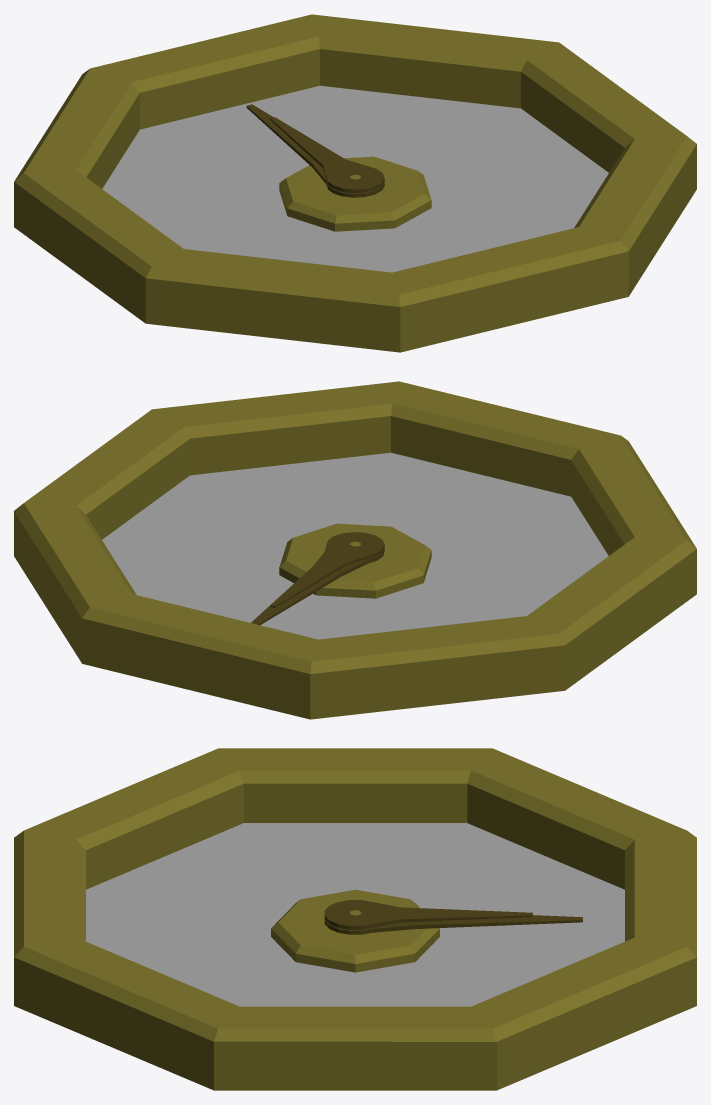
File: watch.fbx
3 renders of one model, top to bottom at view 1: azimuth 30°, elevation 25°; view 2: azimuth 150°, elevation 25°; view 3: azimuth 270°, elevation 25°, orthographic. The views are drawn at different scales.
Visible parts, largest first — view 1: Base, Short, Long; view 2: Base, Short, Long; view 3: Base, Short, Long.
Boxes of the visible parts, bbox=[...] form: Base: bbox=[14, 14, 696, 352]; Short: bbox=[270, 117, 384, 193]; Long: bbox=[246, 104, 384, 197]; Base: bbox=[14, 381, 696, 719]; Short: bbox=[270, 532, 384, 607]; Long: bbox=[251, 548, 384, 625]; Base: bbox=[14, 748, 696, 1090]; Short: bbox=[324, 900, 532, 929]; Long: bbox=[324, 915, 582, 934].
Size of the model in its own units: 185 by 17.21 by 185.
